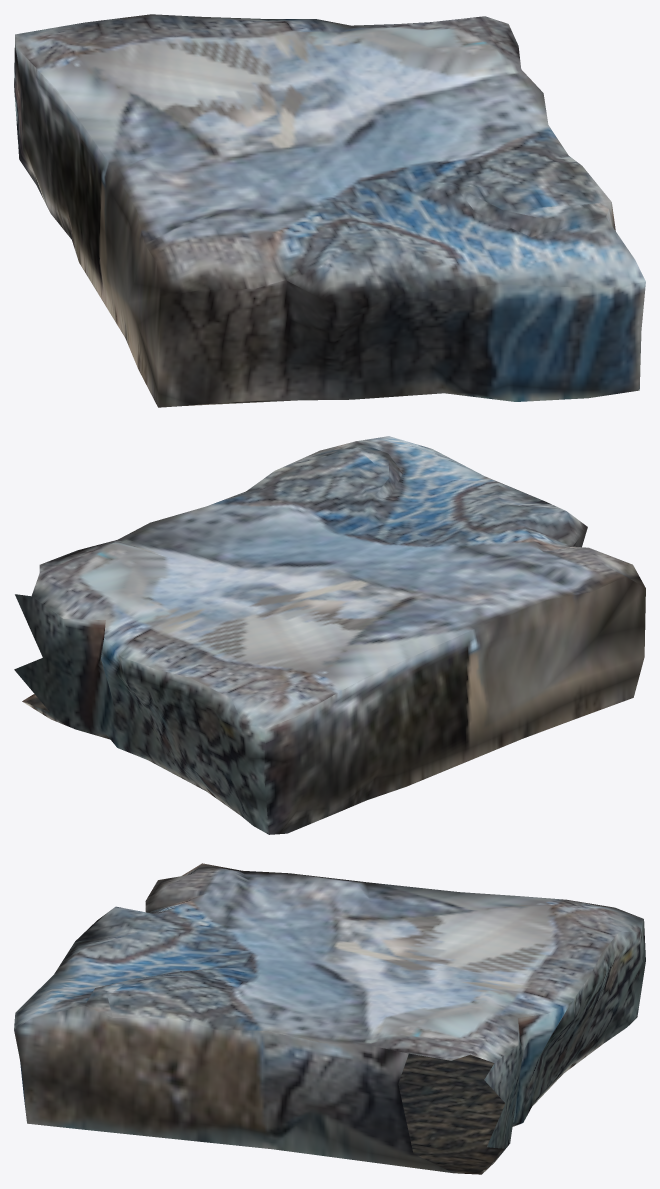
The model's file is FrozenCave_Floor.fbx.
3 views of the same model, one above another, from view 1: azimuth 30°, elevation 25°; view 2: azimuth 150°, elevation 25°; view 3: azimuth 270°, elevation 25° (orthographic). The views are drawn at different scales.
Visible parts, largest first — view 1: FrozenCave_Floor_Mesh; view 2: FrozenCave_Floor_Mesh; view 3: FrozenCave_Floor_Mesh.
Boxes of the visible parts, x1=… form: FrozenCave_Floor_Mesh: x1=14, y1=14, x2=645, y2=407; FrozenCave_Floor_Mesh: x1=14, y1=436, x2=645, y2=834; FrozenCave_Floor_Mesh: x1=14, y1=863, x2=645, y2=1174.
Size of the model in its own units: 6 by 1.74 by 7.77.
1 material, 1 textured.
